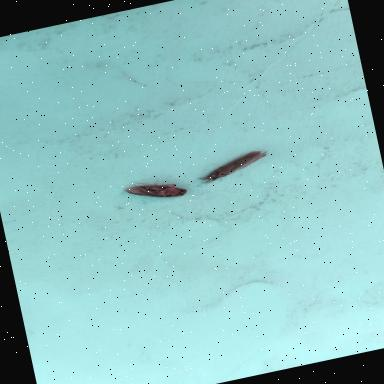pbw: (200, 148, 270, 186), (121, 174, 190, 209)
